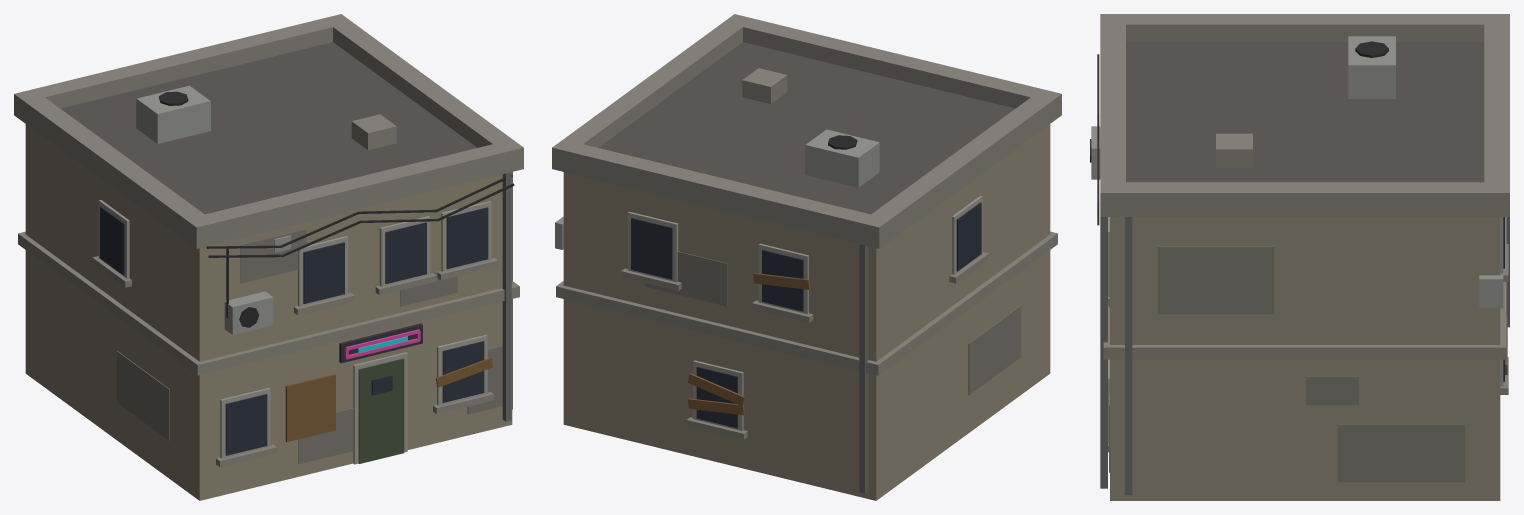
Rendered from quartier_normal.glb.
3 views of the same model, side by side, from view 1: azimuth 30°, elevation 25°; view 2: azimuth 150°, elevation 25°; view 3: azimuth 270°, elevation 25° (orthographic). The views are drawn at different scales.
Visible parts, largest first — view 1: quartier_normal; view 2: quartier_normal; view 3: quartier_normal.
Boxes of the visible parts, x1,y1,x2,y2 form: quartier_normal: (14,14,523,500); quartier_normal: (552,14,1061,500); quartier_normal: (1090,14,1509,500).
Size of the model in its own units: 8 by 6.9 by 7.93.
